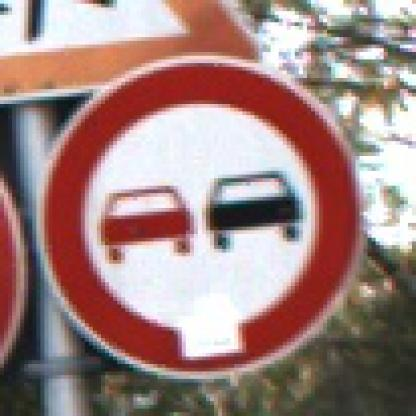No Overtaking: (37, 38, 381, 380)
